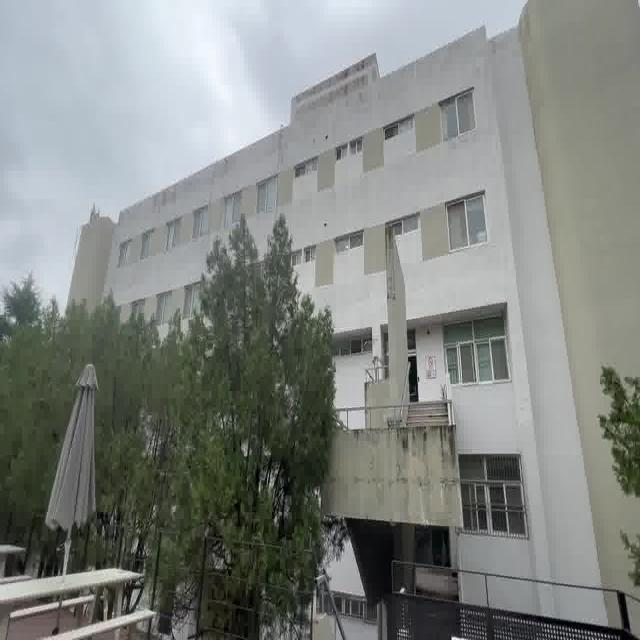building: (320, 48, 594, 558)
